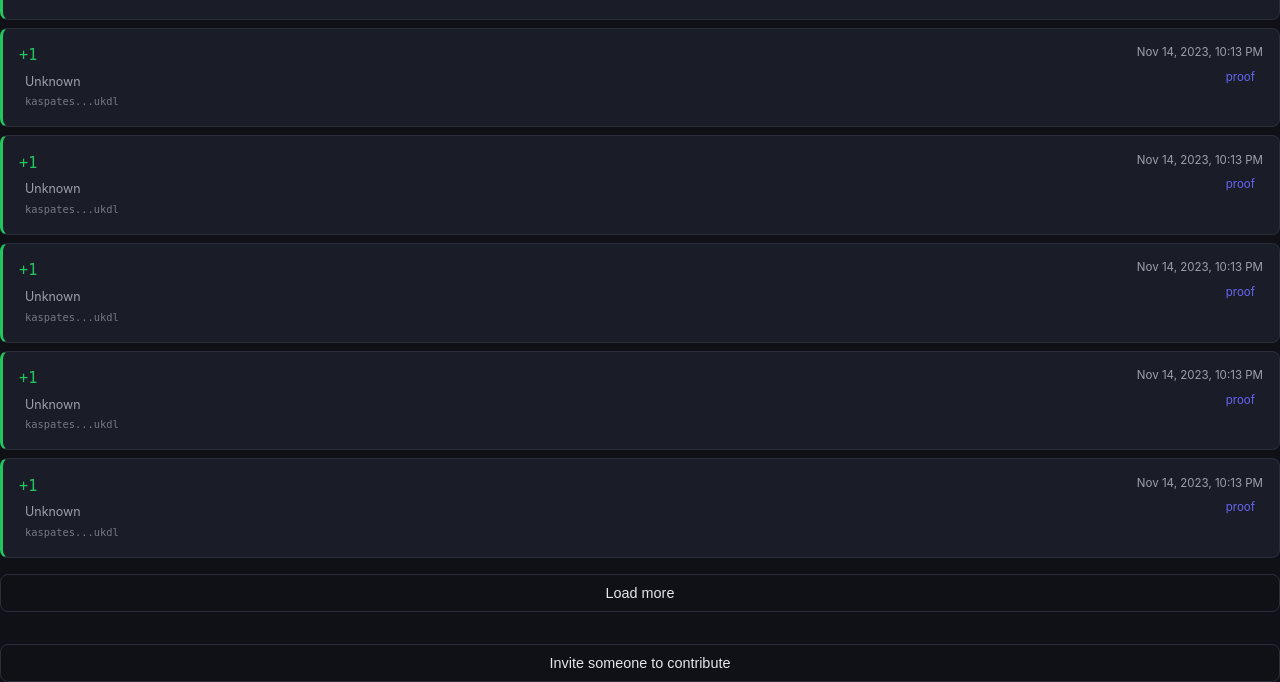
Test: BookPage › loads more rows with pagination
(page scrolled)
Click the button with test id "load-more" at (640, 593), box [0,574,1279,612]
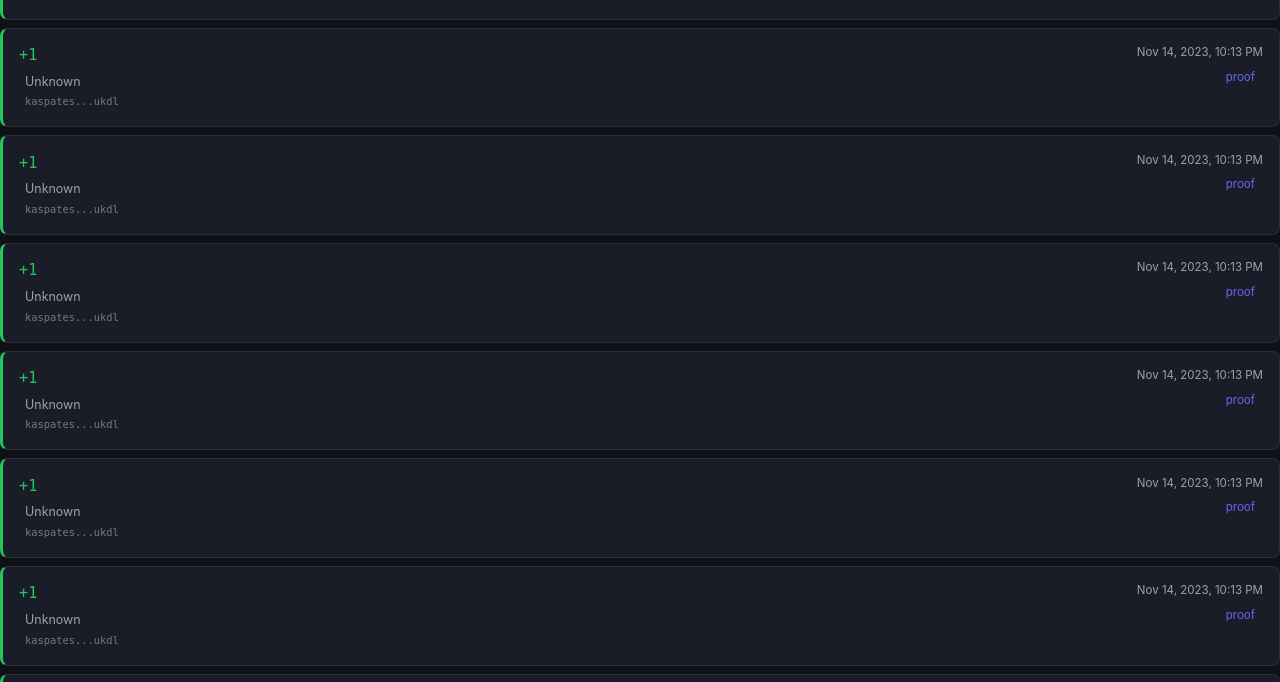
Result: the button with test id "load-more" is gone
